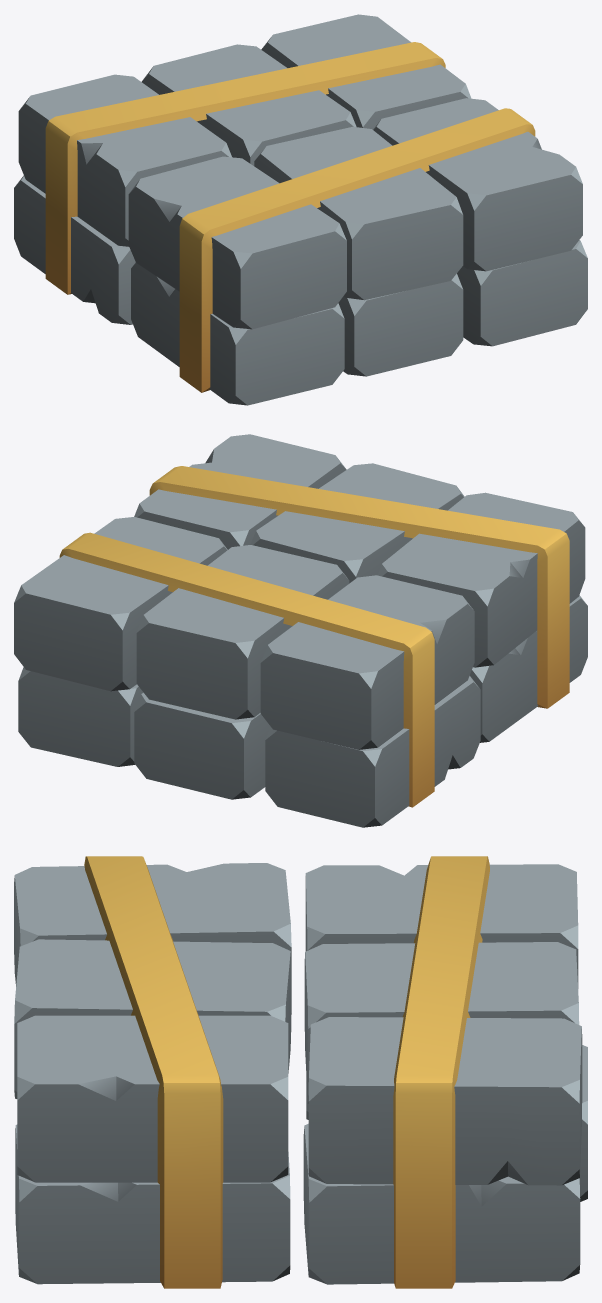
The model's file is Stone_Bricks_Stack_Medium.glb.
The picture shows the model from 3 angles, top to bottom: view 1: azimuth 30°, elevation 25°; view 2: azimuth 150°, elevation 25°; view 3: azimuth 270°, elevation 25°; orthographic projection. The views are drawn at different scales.
Parts seen in each view (by area): view 1: Stone_Bricks_Stack_Medium; view 2: Stone_Bricks_Stack_Medium; view 3: Stone_Bricks_Stack_Medium.
Part boxes in pixels (x1,y1,x2,y2): Stone_Bricks_Stack_Medium: [14, 14, 587, 405]; Stone_Bricks_Stack_Medium: [14, 434, 587, 827]; Stone_Bricks_Stack_Medium: [14, 856, 587, 1288].
Bounding box in the file's own units: 1.51 × 0.6332 × 1.59.
Materials: 1 (1 with a texture image).
